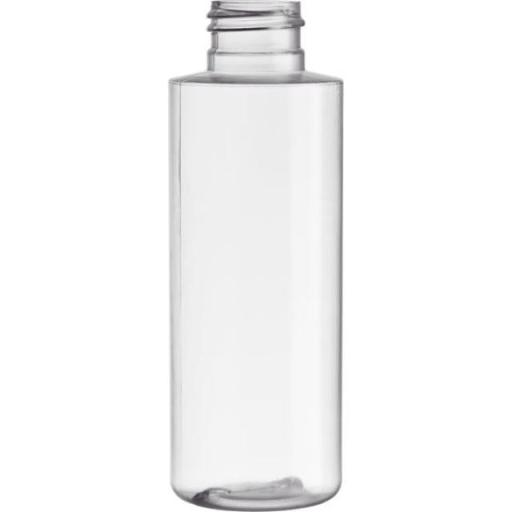plastic: (168, 0, 340, 511)
